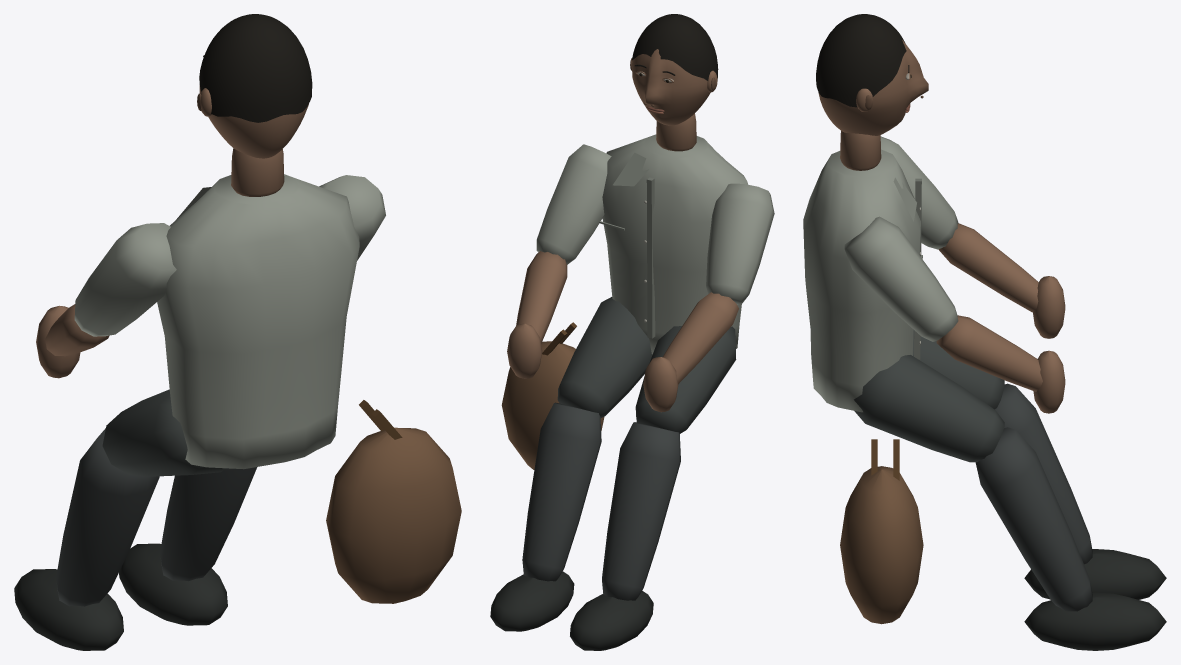
The model's file is passenger_seated.glb.
3 renders of one model, left to right at view 1: azimuth 30°, elevation 25°; view 2: azimuth 150°, elevation 25°; view 3: azimuth 270°, elevation 25°, orthographic. The views are drawn at different scales.
Visible parts, largest first — view 1: passenger_seated; view 2: passenger_seated; view 3: passenger_seated.
Boxes of the visible parts, <box> form: passenger_seated: <box>14,14,461,650</box>; passenger_seated: <box>490,14,774,650</box>; passenger_seated: <box>803,14,1166,650</box>.
Size of the model in its own units: 0.7083 by 1.36 by 0.74.
